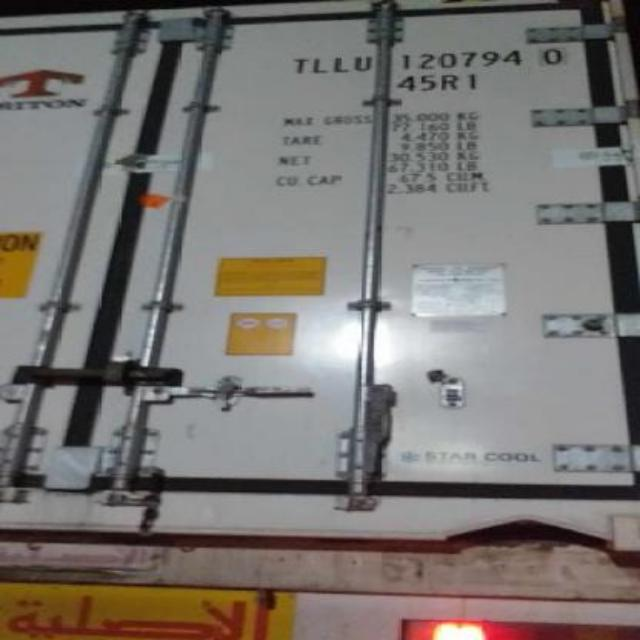0: (540, 40, 570, 70), (436, 46, 456, 70)
1: (396, 48, 414, 72)
2: (416, 50, 438, 70)
4: (498, 42, 524, 72)
7: (456, 44, 478, 72)
9: (478, 45, 498, 71)
L: (306, 51, 330, 77), (328, 49, 352, 75)
T: (288, 49, 308, 75)
U: (350, 46, 374, 76)
